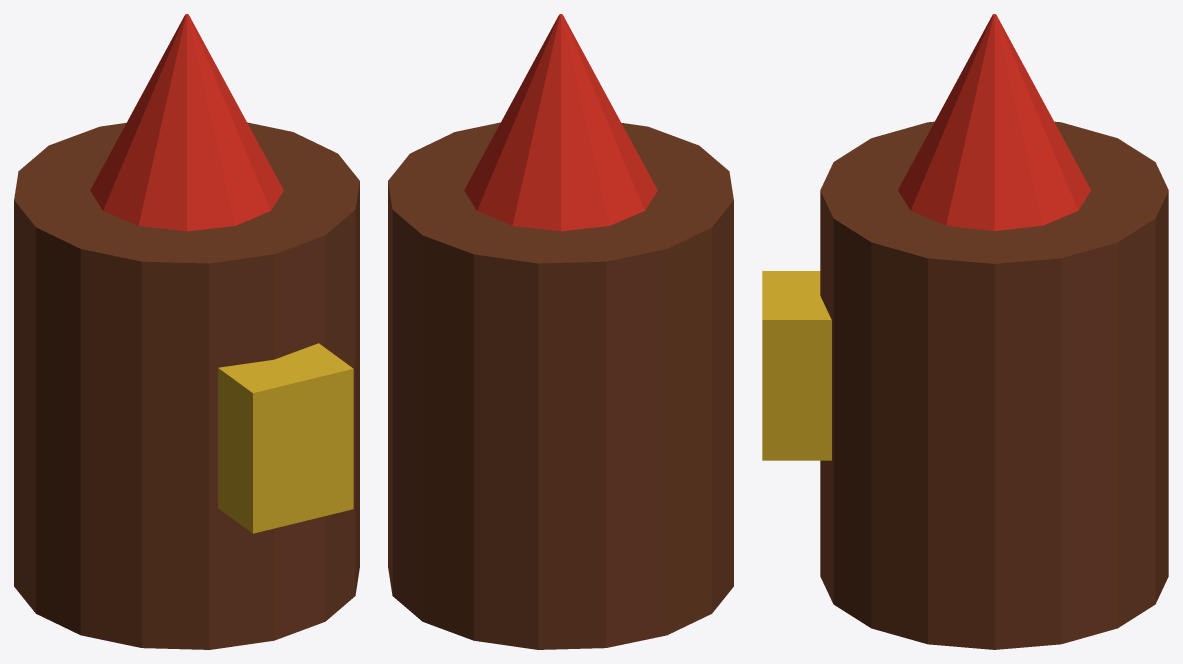
File: incendiary_payload.obj
3 views of the same model, side by side, from view 1: azimuth 30°, elevation 25°; view 2: azimuth 150°, elevation 25°; view 3: azimuth 270°, elevation 25° (orthographic).
Parts seen in each view (by area): view 1: incendiary_payload; view 2: incendiary_payload; view 3: incendiary_payload.
Part boxes in pixels (x1,y1,x2,y2): incendiary_payload: (14,14,359,649); incendiary_payload: (388,14,733,649); incendiary_payload: (762,14,1168,649).
Size of the model in its own units: 0.18 by 0.32 by 0.21.
